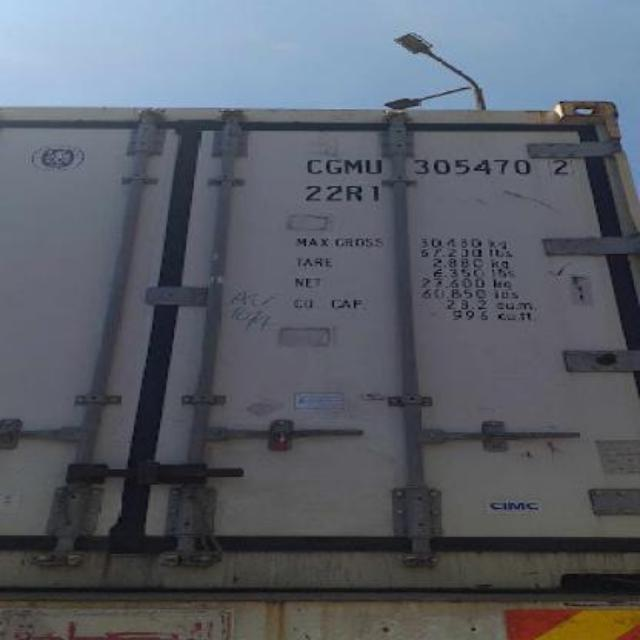0: (510, 151, 530, 181), (432, 156, 452, 180)
2: (548, 152, 572, 178)
3: (411, 156, 432, 178)
4: (471, 152, 492, 180)
5: (452, 152, 470, 182)
7: (494, 154, 510, 180)
C: (300, 153, 324, 179)
G: (324, 153, 342, 179)
M: (344, 153, 364, 179)
U: (362, 152, 383, 182)
